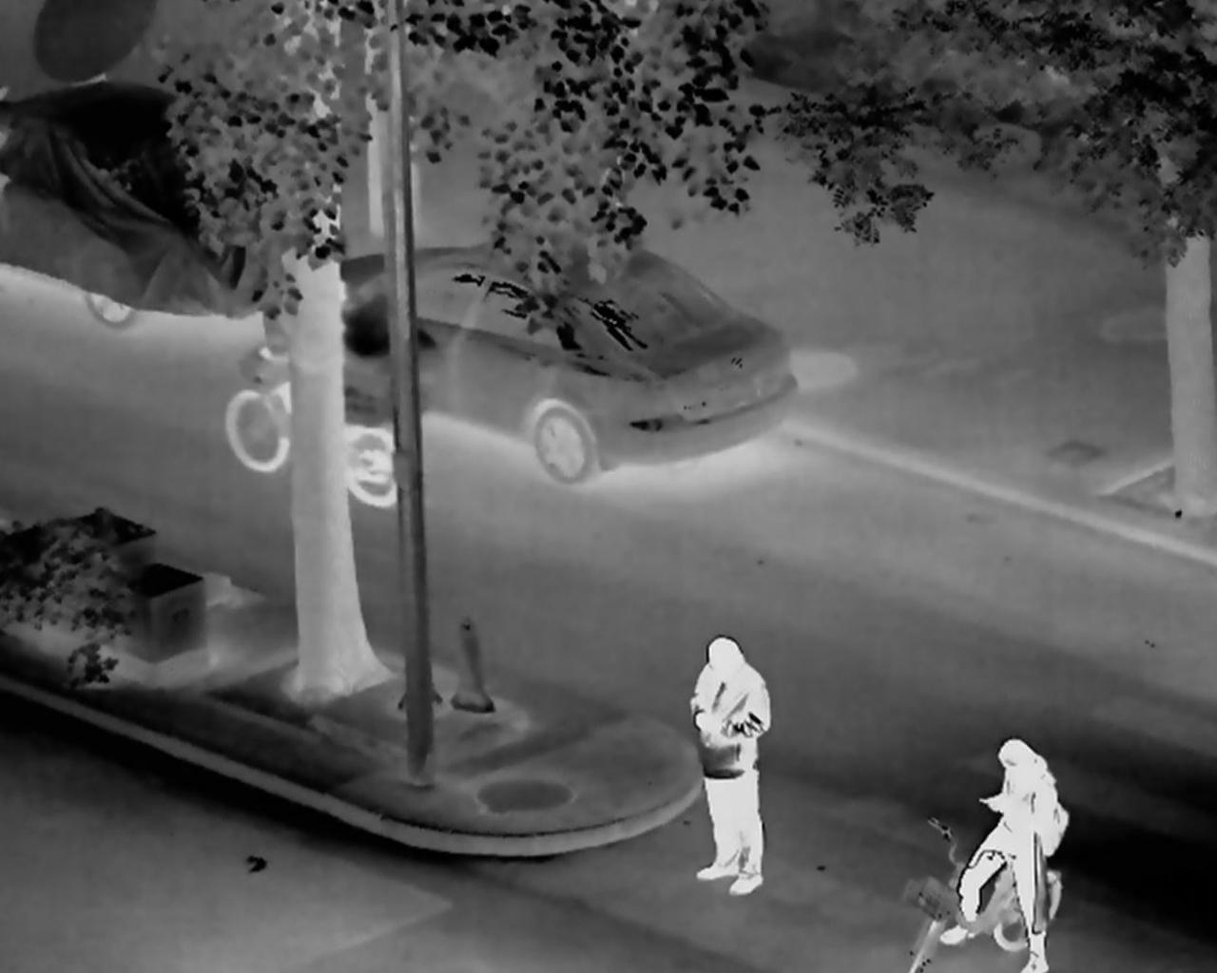person: (938, 737, 1060, 973), (689, 637, 774, 894)
